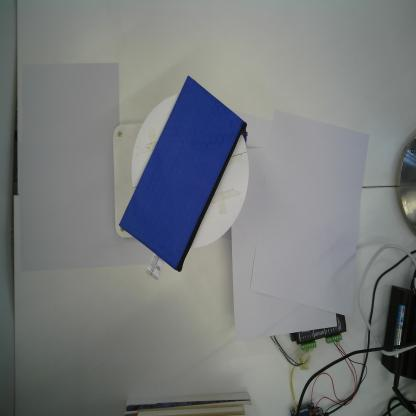Stationery: (118, 74, 248, 272)
